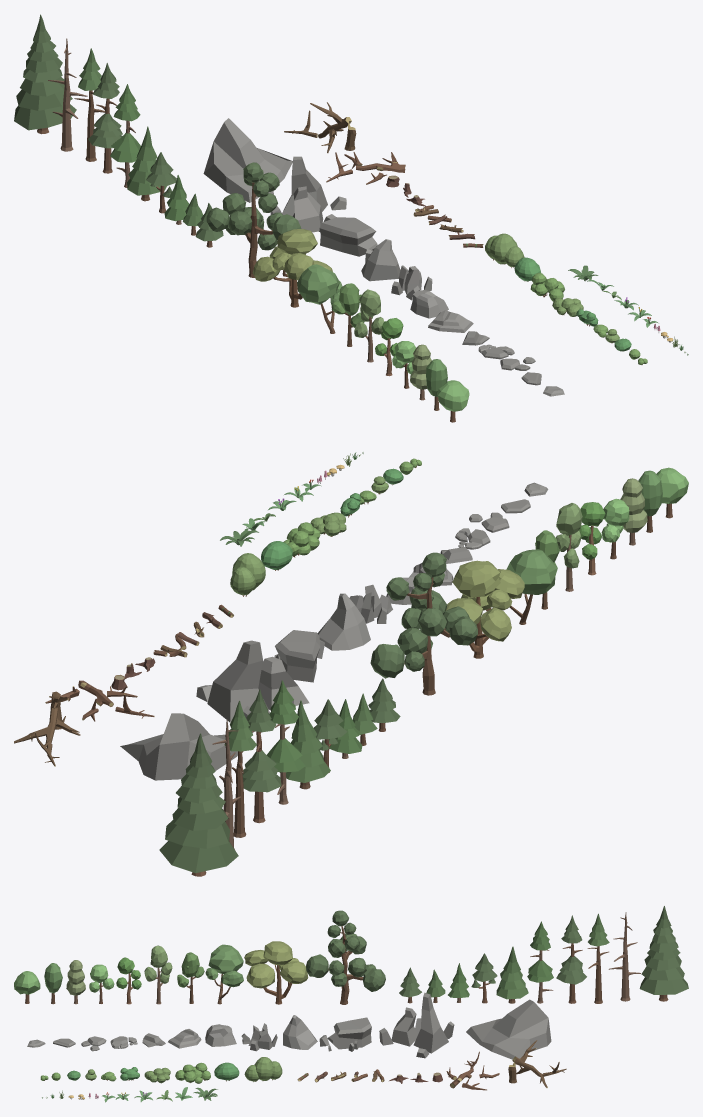
Rendered from Forest_Pack.fbx.
The picture shows the model from 3 angles, top to bottom: view 1: azimuth 30°, elevation 25°; view 2: azimuth 150°, elevation 25°; view 3: azimuth 270°, elevation 25°; orthographic projection. The views are drawn at different scales.
Parts seen in each view (by area): view 1: Stones__Rock_Gray_Rock_001 (×6), Leaves_01 (×4), Stones__Rock_Gray_Rock_002, Pine_Trees_Pack_Pine_01, Pine_Trees_Pack_Tree_stem_01, Leaves_05, Trunks__Stumps_Pack_Tree_trunk01, Pine_Trees_Pack_Pine_02, Tree_stem_01; view 2: Stones__Rock_Gray_Rock_001 (×4), Leaves_01 (×5), Leaves_02 (×3), Pine_Trees_Pack_Pine_01, Pine_Trees_Pack_Tree_stem_01 (×2), Leaves_05, Stones__Rock_Gray_Rock_002, Pine_Trees_Pack_Pine_02, Trunks__Stumps_Pack_Tree_trunk01, Pine_Trees_Pack_Pine_03, Trunks__Stumps_Pack_Tree_trunk02, Tree_stem_01 (+3 smaller); view 3: Stones__Rock_Gray_Rock_001 (×6), Leaves_01 (×7), Pine_Trees_Pack_Tree_stem_01 (×2), Tree_stem_01 (×2), Bushes_bush_01 (×2), Stones__Rock_Gray_Rock_002, Pine_Trees_Pack_Pine_01, Leaves_05, Leaves_03, Trunks__Stumps_Pack_Tree_trunk01, Pine_Trees_Pack_Pine_02, Leaves_04 (+3 smaller).
Boxes of the visible parts, x1,y1,x2,y2 form: Stones__Rock_Gray_Rock_001 (×6): (203,118,473,332); Leaves_01 (×4): (297,264,469,411); Stones__Rock_Gray_Rock_002: (292,186,323,232); Pine_Trees_Pack_Pine_01: (14,104,76,130); Pine_Trees_Pack_Tree_stem_01: (48,38,87,151); Leaves_05: (277,229,317,254); Trunks__Stumps_Pack_Tree_trunk01: (326,152,405,184); Pine_Trees_Pack_Pine_02: (16,89,72,110); Tree_stem_01: (245,182,272,277); Stones__Rock_Gray_Rock_001 (×4): (120,593,370,780); Leaves_01 (×5): (370,467,688,678); Leaves_02 (×3): (397,503,582,654); Pine_Trees_Pack_Pine_01: (159,841,238,873); Pine_Trees_Pack_Tree_stem_01 (×2): (212,719,246,849); Leaves_05: (452,560,500,597); Stones__Rock_Gray_Rock_002: (258,656,309,710); Pine_Trees_Pack_Pine_02: (165,820,229,848); Trunks__Stumps_Pack_Tree_trunk01: (45,680,154,721); Pine_Trees_Pack_Pine_03: (172,808,228,830); Trunks__Stumps_Pack_Tree_trunk02: (14,691,80,746); Tree_stem_01: (404,577,450,695); Stones__Rock_Gray_Rock_001 (×6): (168,992,551,1059); Leaves_01 (×7): (14,944,385,995); Pine_Trees_Pack_Tree_stem_01 (×2): (587,912,640,1003); Tree_stem_01 (×2): (263,926,363,1004); Bushes_bush_01 (×2): (214,1057,272,1080); Stones__Rock_Gray_Rock_002: (391,1007,418,1046); Pine_Trees_Pack_Pine_01: (639,977,688,994); Leaves_05: (263,941,292,965); Leaves_03: (246,963,274,988); Trunks__Stumps_Pack_Tree_trunk01: (446,1051,499,1090); Pine_Trees_Pack_Pine_02: (641,966,684,980); Leaves_04: (306,954,328,977).
Bounding box in the file's own units: 19.72 × 7.62 × 48.17.
